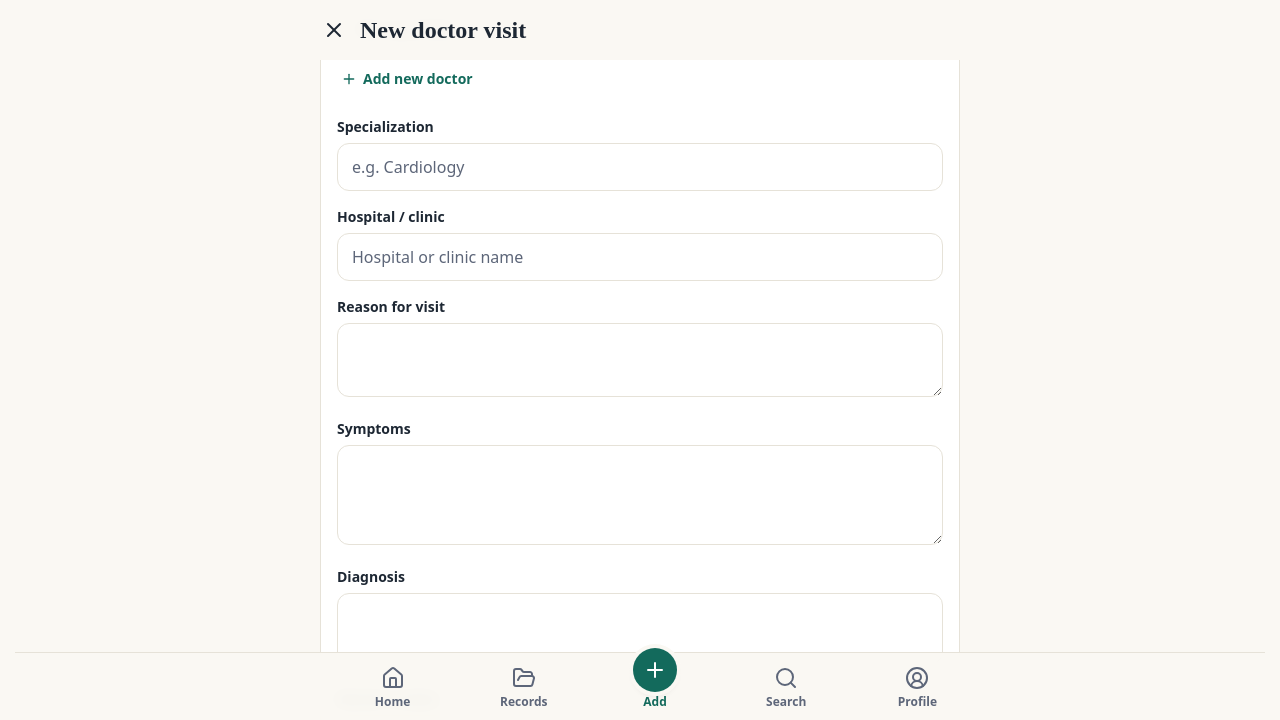
Test: adding a record › asks before discarding unsaved changes
The width and height of the screenshot is (1280, 720).
(page scrolled)
In the text box labelled "Reason for visit": (640, 360) x1=337 y1=323 x2=943 y2=397, type "Chest pain"
(page scrolled)
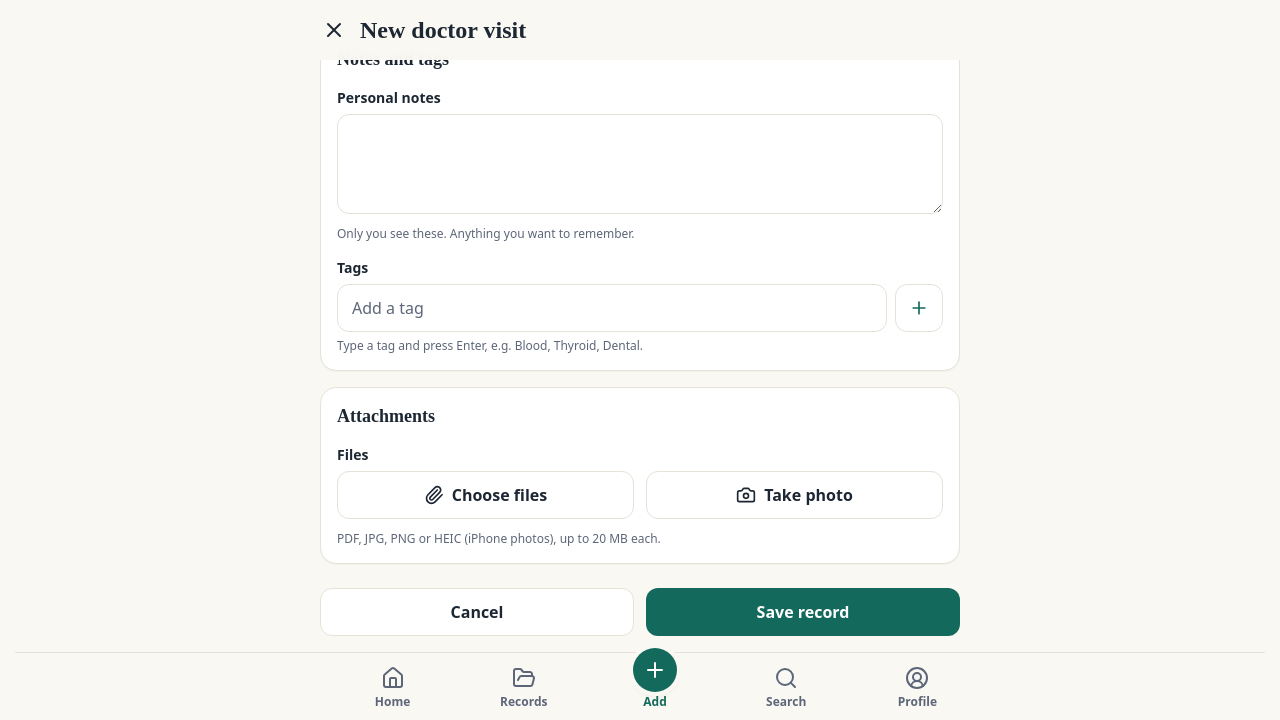
Click the button "Cancel": (477, 612) x1=320 y1=588 x2=634 y2=636
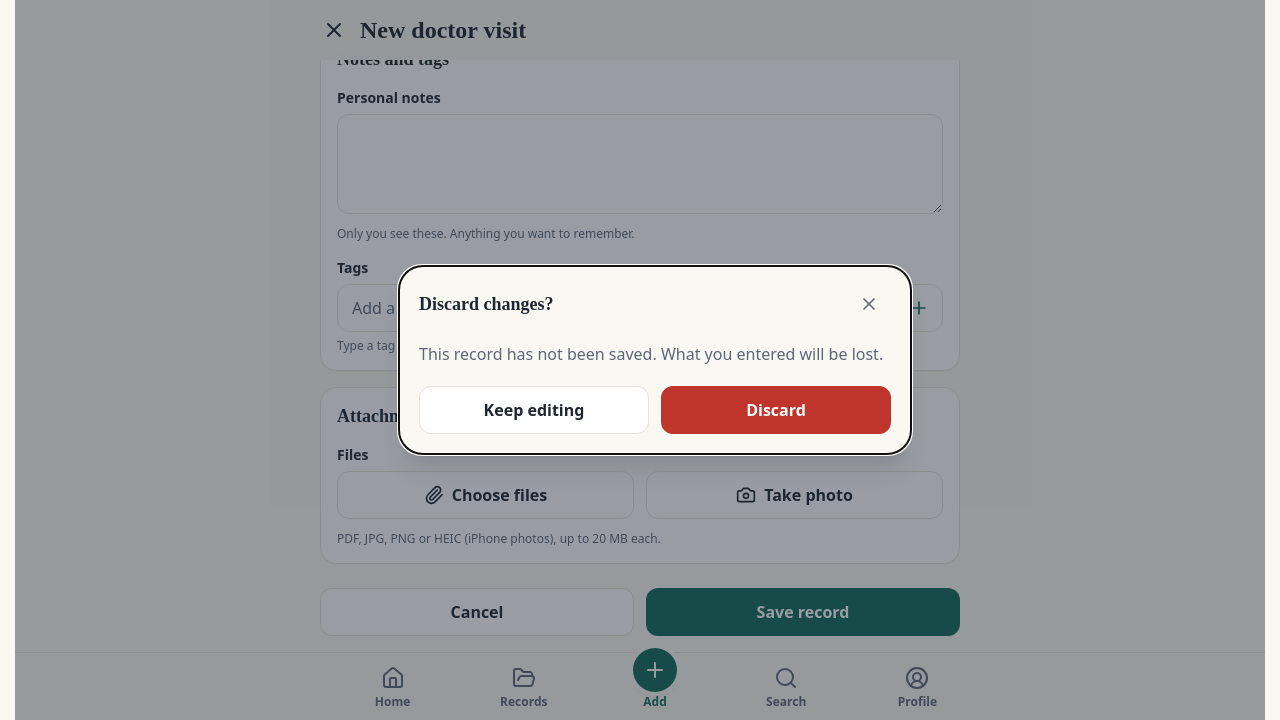
Click the button "Keep editing": (534, 410) x1=419 y1=386 x2=649 y2=434
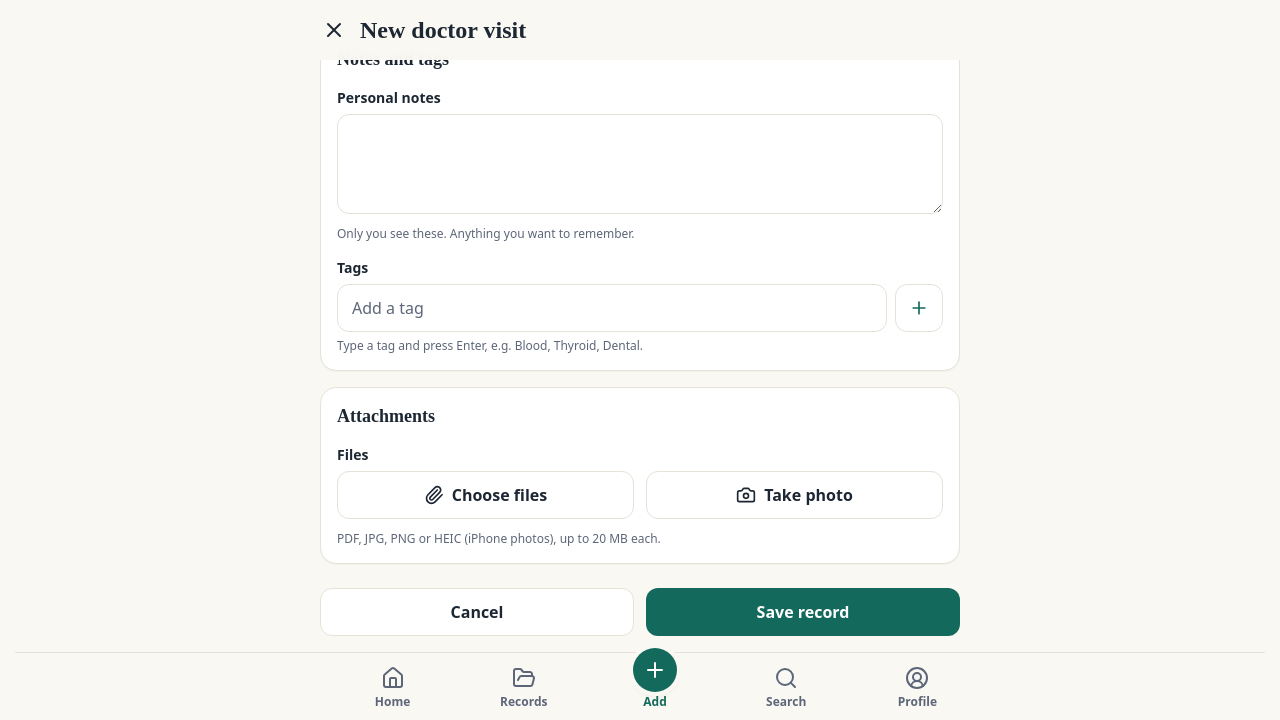
Check: the dialog is gone
Click the button named "Close": (334, 30) x1=312 y1=8 x2=356 y2=52
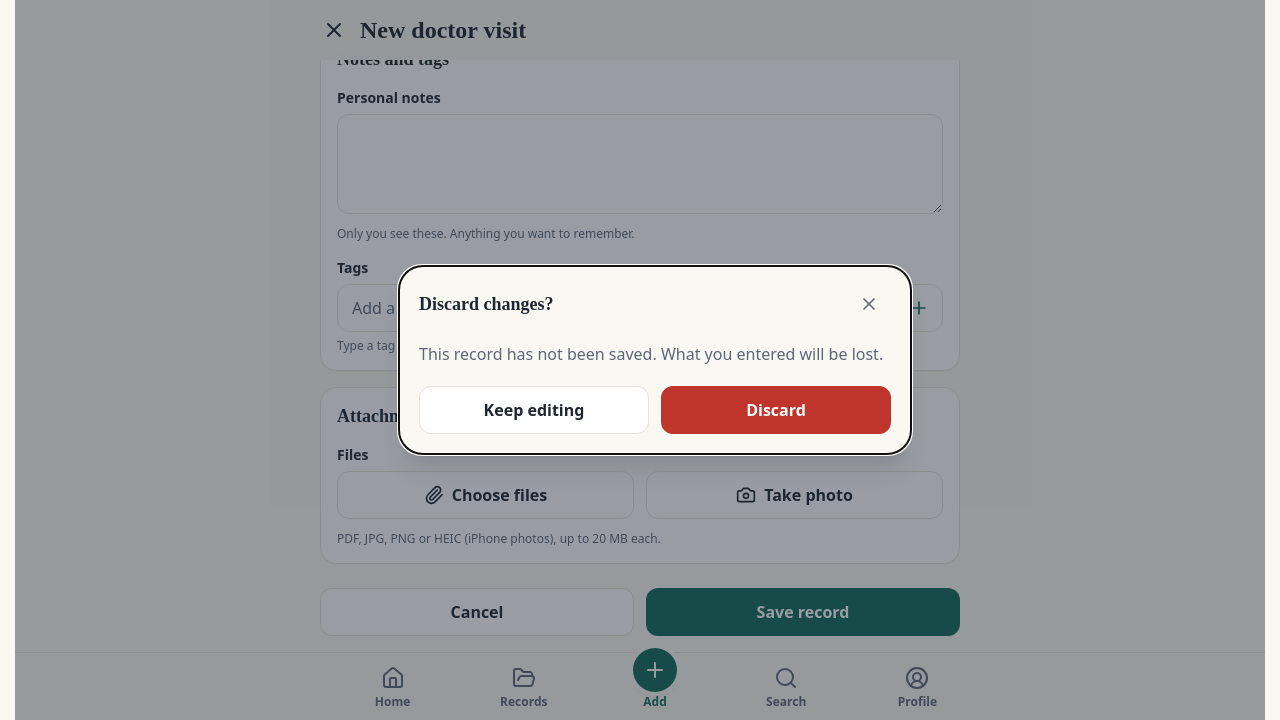
Click the button "Discard": (776, 410) x1=661 y1=386 x2=891 y2=434
(page scrolled)
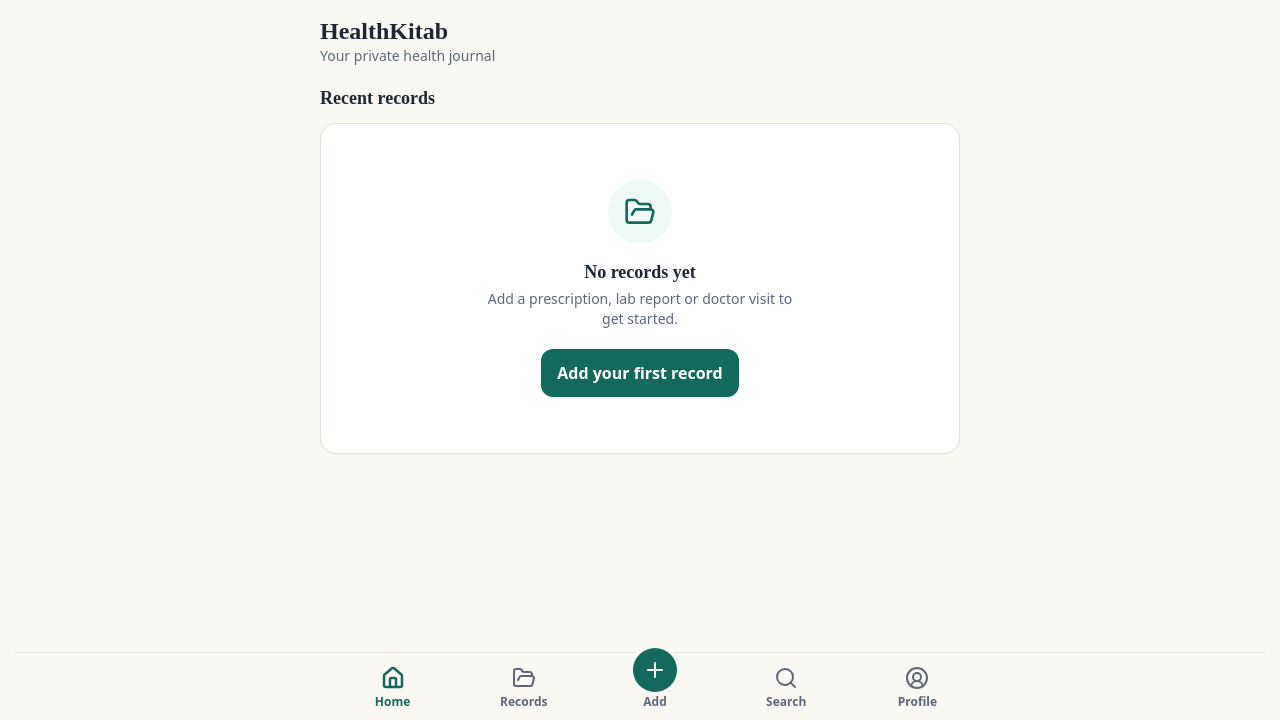
Check: the heading "HealthKitab" is shown, box x1=320 y1=18 x2=448 y2=44
